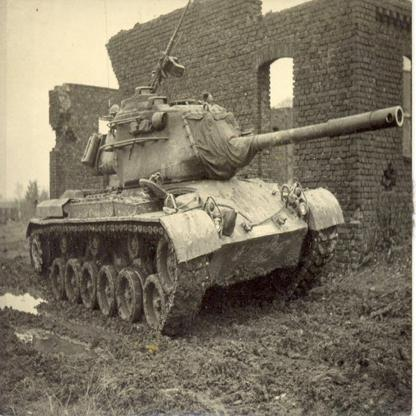Tank: (23, 80, 405, 332)
